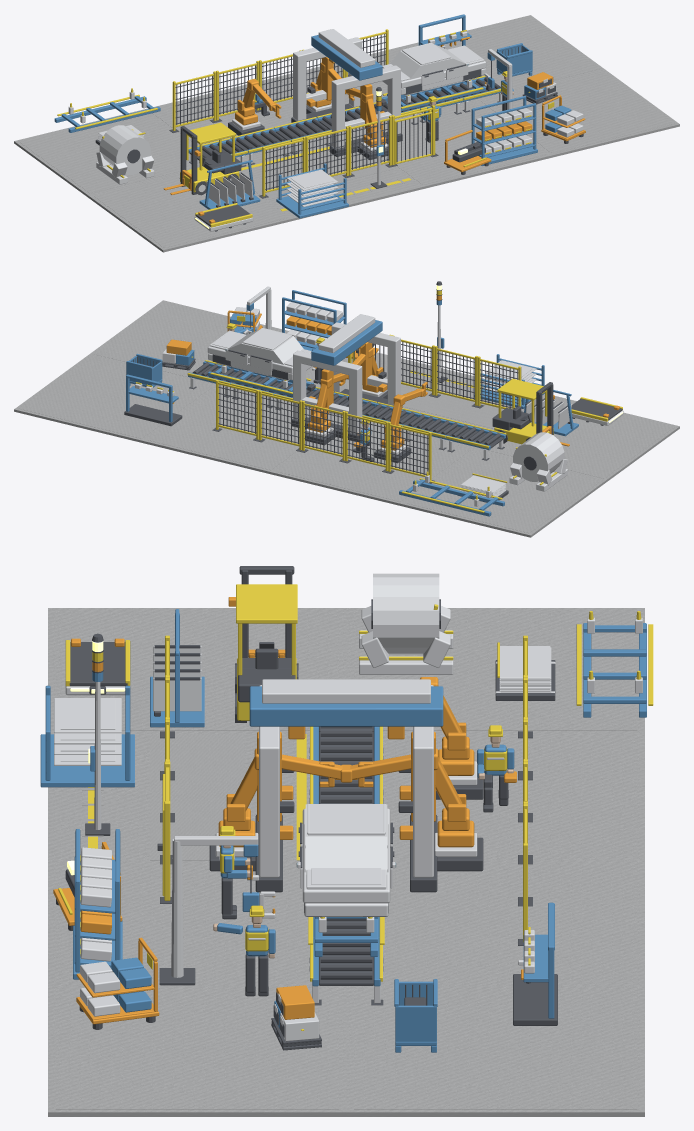
Rendered from framing-cell-and-press-feed.glb.
The picture shows the model from 3 angles, top to bottom: view 1: azimuth 30°, elevation 25°; view 2: azimuth 150°, elevation 25°; view 3: azimuth 270°, elevation 25°; orthographic projection. The views are drawn at different scales.
Parts seen in each view (by area): view 1: 007-floor-tile-plain/0, 004-floor-tile-plain/0, 000-floor-tile-plain/0, 006-floor-tile-plain/0, 003-floor-tile-plain/0, 005-floor-tile-walkway/0, 015-framing-station-jig/1, 001-floor-tile-plain/0, 020-body-in-white-shell/0, 033-steel-coil-on-cradle/0, 037-line-side-rack/0, 031-stamped-roof-panel-rack/0 (+41 smaller); view 2: 003-floor-tile-plain/0, 002-floor-tile-plain/0, 000-floor-tile-plain/0, 001-floor-tile-plain/0, 004-floor-tile-plain/0, 007-floor-tile-plain/0, 015-framing-station-jig/1, 005-floor-tile-walkway/0, 020-body-in-white-shell/0, 033-steel-coil-on-cradle/0, 044-forklift/0, 044-forklift/1 (+37 smaller); view 3: 003-floor-tile-plain/0, 007-floor-tile-plain/0, 002-floor-tile-plain/0, 001-floor-tile-plain/0, 000-floor-tile-plain/0, 006-floor-tile-plain/0, 004-floor-tile-plain/0, 005-floor-tile-walkway/0, 015-framing-station-jig/1, 020-body-in-white-shell/0, 033-steel-coil-on-cradle/0, 015-framing-station-jig/3 (+35 smaller).
Part boxes in pixels (<box>): 007-floor-tile-plain/0: <box>476,69,679,157</box>; 004-floor-tile-plain/0: <box>88,173,292,252</box>; 000-floor-tile-plain/0: <box>14,109,202,197</box>; 006-floor-tile-plain/0: <box>351,101,550,189</box>; 003-floor-tile-plain/0: <box>402,15,604,100</box>; 005-floor-tile-walkway/0: <box>238,134,421,220</box>; 015-framing-station-jig/1: <box>293,29,400,149</box>; 001-floor-tile-plain/0: <box>143,78,345,159</box>; 020-body-in-white-shell/0: <box>382,42,486,95</box>; 033-steel-coil-on-cradle/0: <box>96,125,154,184</box>; 037-line-side-rack/0: <box>471,96,537,165</box>; 031-stamped-roof-panel-rack/0: <box>276,163,348,218</box>; 003-floor-tile-plain/0: <box>14,355,215,442</box>; 002-floor-tile-plain/0: <box>143,386,342,474</box>; 000-floor-tile-plain/0: <box>401,449,605,537</box>; 001-floor-tile-plain/0: <box>272,419,475,505</box>; 004-floor-tile-plain/0: <box>476,396,679,482</box>; 007-floor-tile-plain/0: <box>89,300,288,385</box>; 015-framing-station-jig/1: <box>293,314,400,433</box>; 005-floor-tile-walkway/0: <box>348,363,544,449</box>; 020-body-in-white-shell/0: <box>207,328,311,380</box>; 033-steel-coil-on-cradle/0: <box>509,432,567,491</box>; 044-forklift/0: <box>494,378,553,444</box>; 044-forklift/1: <box>492,382,553,434</box>; 003-floor-tile-plain/0: <box>346,986,644,1116</box>; 007-floor-tile-plain/0: <box>48,986,346,1116</box>; 002-floor-tile-plain/0: <box>346,860,644,986</box>; 001-floor-tile-plain/0: <box>383,734,644,860</box>; 000-floor-tile-plain/0: <box>346,608,644,733</box>; 006-floor-tile-plain/0: <box>48,860,345,986</box>; 004-floor-tile-plain/0: <box>48,608,346,733</box>; 005-floor-tile-walkway/0: <box>48,734,309,860</box>; 015-framing-station-jig/1: <box>259,679,433,877</box>; 020-body-in-white-shell/0: <box>302,804,390,916</box>; 033-steel-coil-on-cradle/0: <box>359,573,453,674</box>; 015-framing-station-jig/3: <box>249,686,443,726</box>.
Size of the model in its own units: 24 by 4.43 by 12.32.
9 materials, 1 textured.
